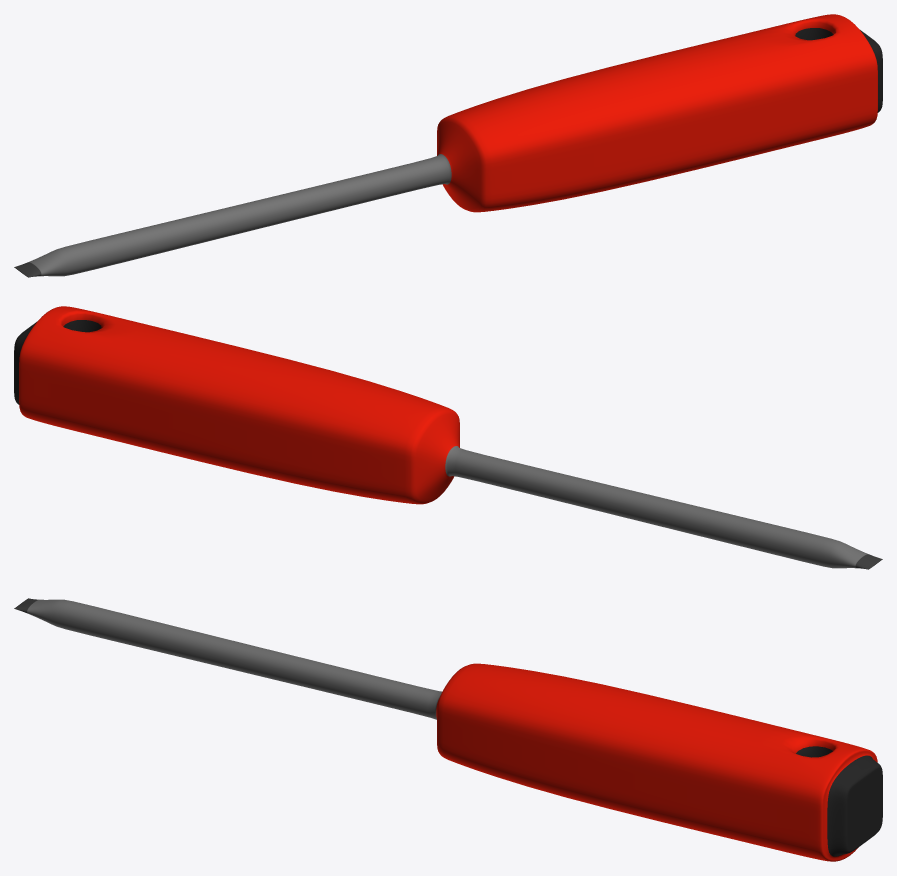
Rendered from ScrewDriver.fbx.
3 views of the same model, one above another, from view 1: azimuth 30°, elevation 25°; view 2: azimuth 150°, elevation 25°; view 3: azimuth 330°, elevation 25° (orthographic).
Parts seen in each view (by area): view 1: Cube; view 2: Cube; view 3: Cube.
Boxes of the visible parts, x1,y1,x2,y2 form: Cube: (14,14,882,277); Cube: (14,306,882,569); Cube: (14,598,882,861).
Size of the model in its own units: 1705 by 200 by 203.
